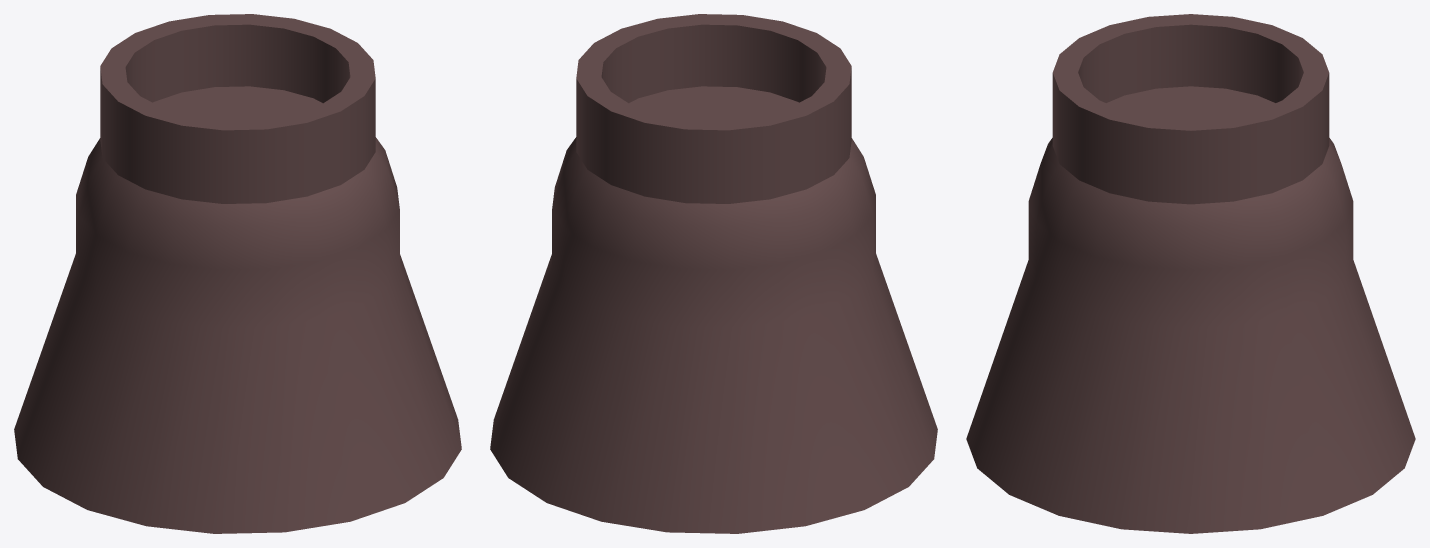
The model's file is props 01.fbx.
3 renders of one model, left to right at view 1: azimuth 30°, elevation 25°; view 2: azimuth 150°, elevation 25°; view 3: azimuth 270°, elevation 25°, orthographic.
Visible parts, largest first — view 1: flowerpot; view 2: flowerpot; view 3: flowerpot.
Part boxes in pixels (left/top/right/bottom): flowerpot: left=14, top=14, right=461, bottom=533; flowerpot: left=490, top=14, right=937, bottom=533; flowerpot: left=966, top=14, right=1415, bottom=533.
Size of the model in its own units: 293 by 263 by 293.
